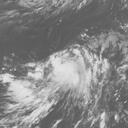cyclone: (36, 43, 105, 106)
